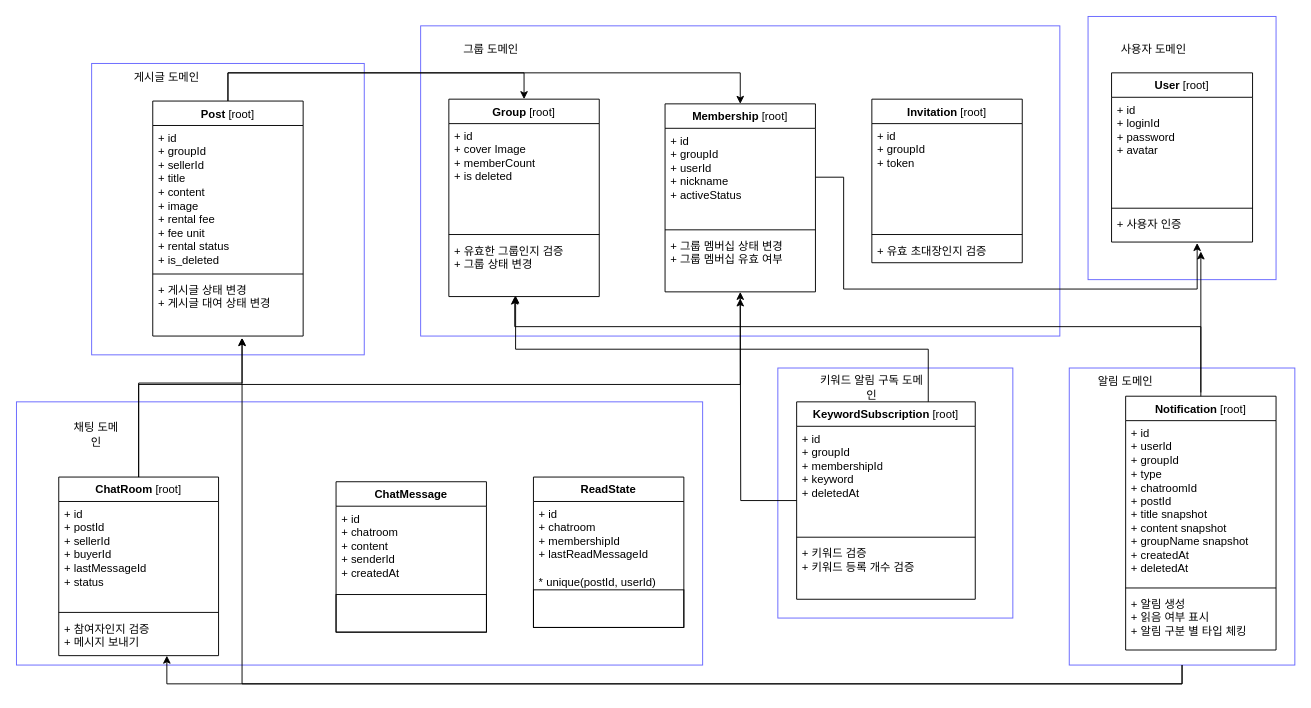
Some shapes in this 1311 by 708 pixel diagram are drawn without their labels. The shapes that lost their labels are listed below. From the top down, each one's centre as x and y in pixels, then its label:
At (x=410, y=613): "+ 메시지 생성".
At (x=608, y=608): "+ 메시지 읽음 처리".
